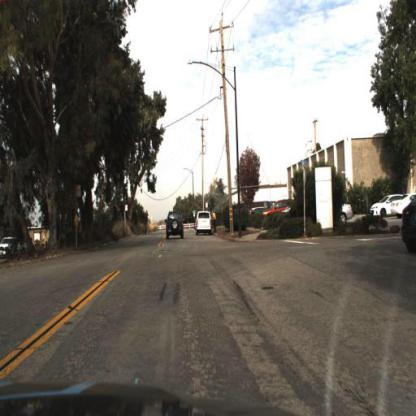car: (165, 208, 189, 246), (1, 235, 26, 264), (369, 192, 394, 220), (264, 198, 296, 219), (194, 210, 214, 239), (370, 193, 391, 218), (338, 203, 359, 226), (342, 201, 357, 222)
pedestrian: (210, 206, 219, 232)
